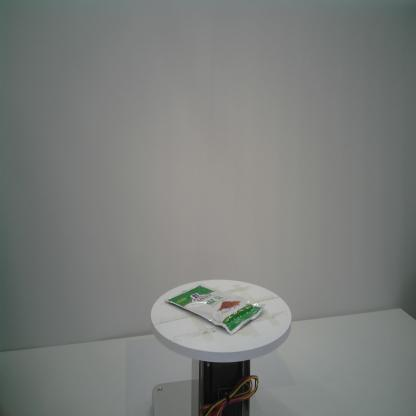Seasoner: (164, 284, 266, 336)
